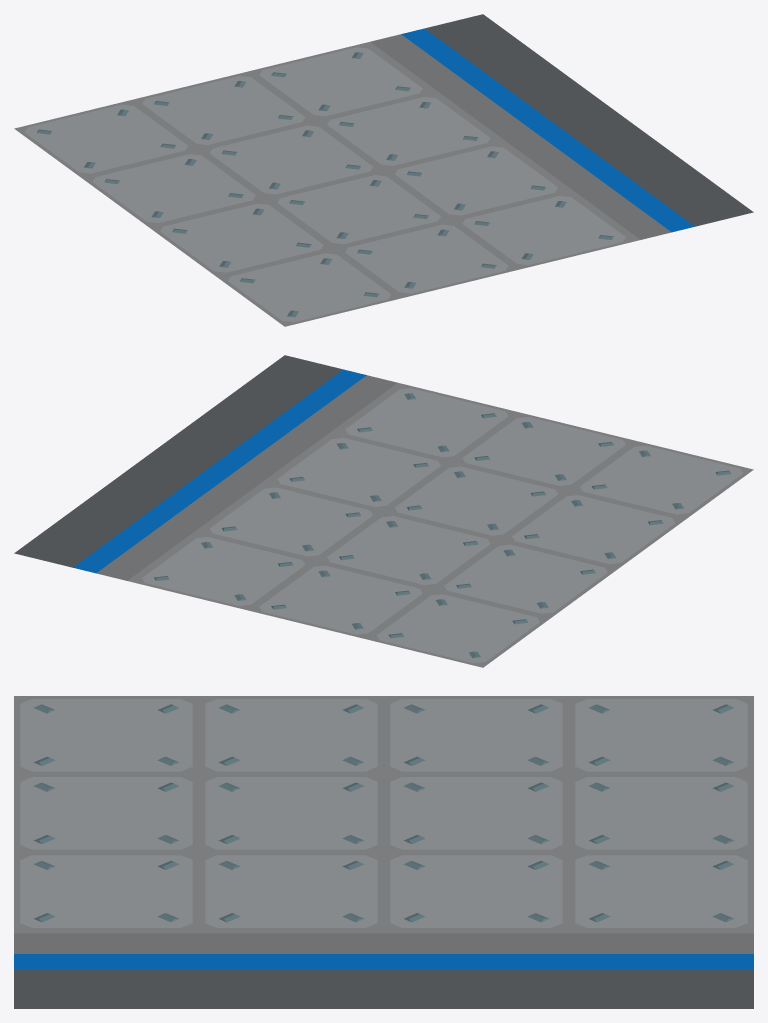
Rendered from Floor_type_B_007.fbx.
3 views of the same model, one above another, from view 1: azimuth 30°, elevation 25°; view 2: azimuth 150°, elevation 25°; view 3: azimuth 270°, elevation 25° (orthographic). The views are drawn at different scales.
Parts seen in each view (by area): view 1: Floor_type_B_007; view 2: Floor_type_B_007; view 3: Floor_type_B_007.
Part boxes in pixels (bbox=[...]): Floor_type_B_007: bbox=[14, 14, 753, 326]; Floor_type_B_007: bbox=[14, 355, 753, 667]; Floor_type_B_007: bbox=[14, 696, 753, 1008].
Size of the model in its own units: 400 by 400 by 0.8.
